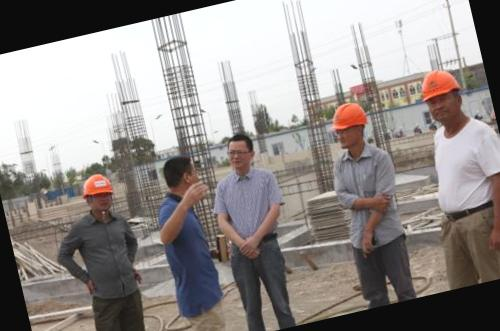no_helmet: (154, 149, 202, 205), (220, 128, 261, 172)
